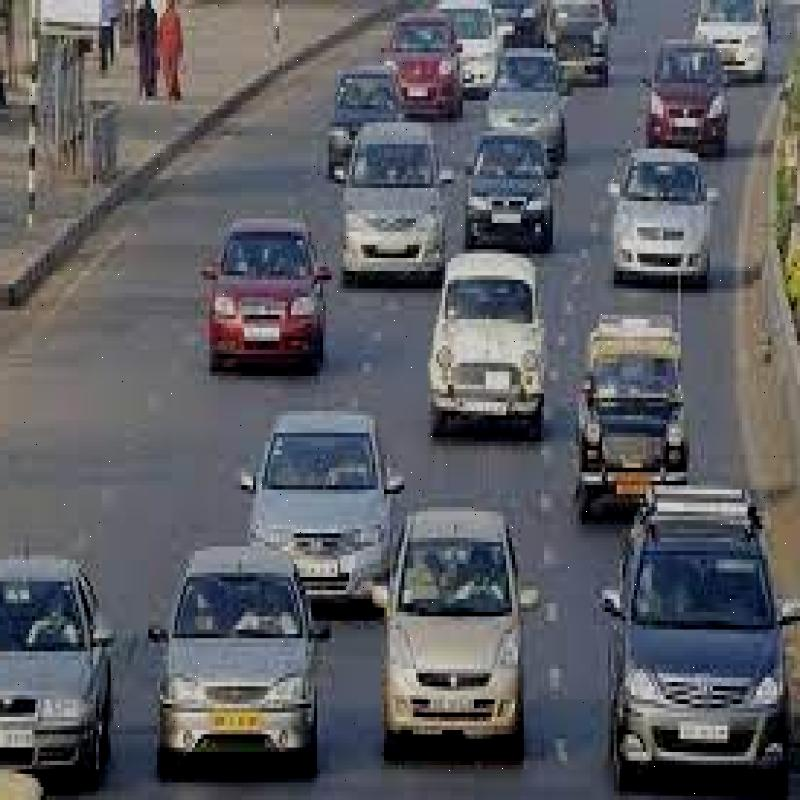car: (601, 479, 787, 800), (139, 522, 332, 775), (367, 504, 518, 757), (9, 528, 120, 780), (258, 394, 391, 603), (420, 252, 548, 457), (211, 194, 345, 388), (569, 308, 696, 496), (348, 106, 441, 288), (588, 142, 711, 276), (463, 117, 551, 244)
